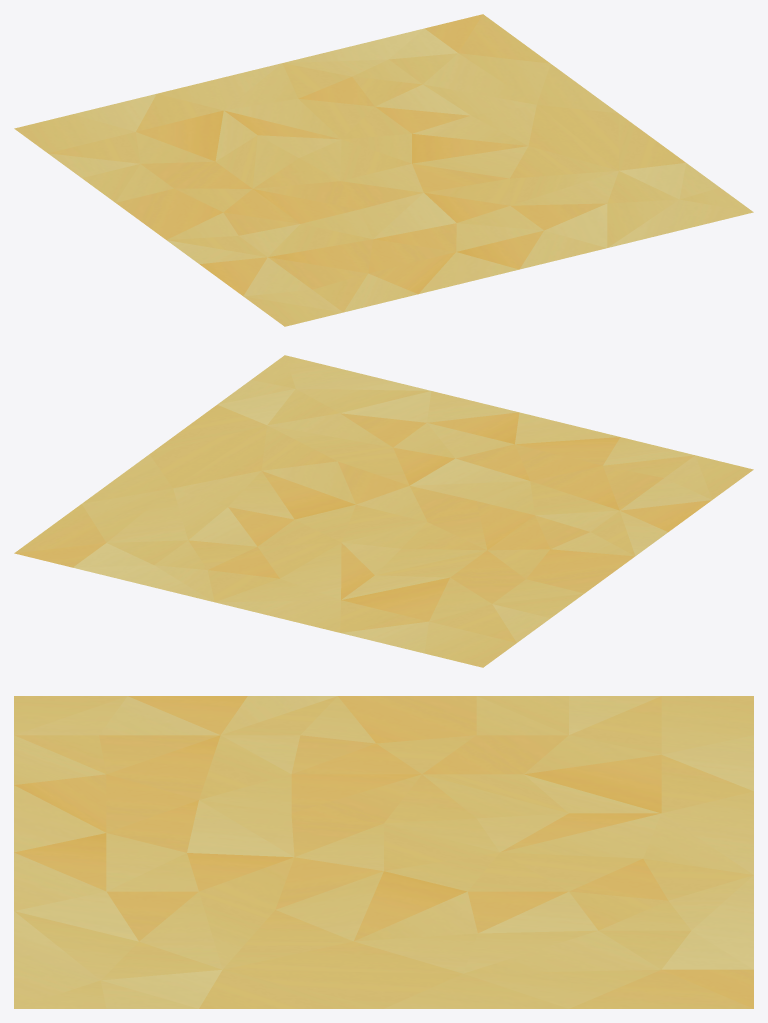
The model's file is GL-Terrain-part-10.fbx.
3 renders of one model, top to bottom at view 1: azimuth 30°, elevation 25°; view 2: azimuth 150°, elevation 25°; view 3: azimuth 270°, elevation 25°, orthographic. The views are drawn at different scales.
Visible parts, largest first — view 1: GL-Terrain-part-10; view 2: GL-Terrain-part-10; view 3: GL-Terrain-part-10.
Boxes of the visible parts, left/top/right/bottom form: GL-Terrain-part-10: left=14, top=14, right=753, bottom=326; GL-Terrain-part-10: left=14, top=355, right=753, bottom=667; GL-Terrain-part-10: left=14, top=696, right=753, bottom=1008.
Bounding box in the file's own units: 6 × 0 × 6.
